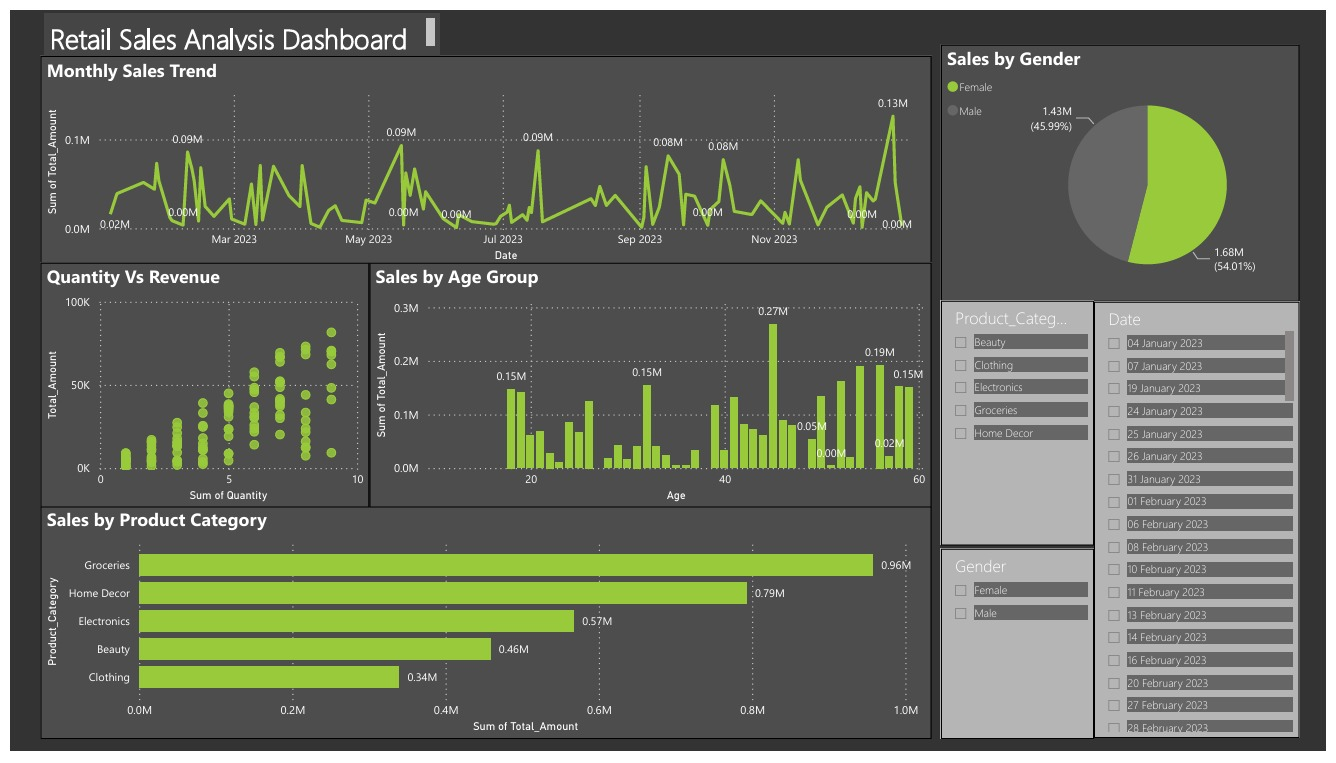

What the dashboard file says about the page in this screenshot:
{"tool":"powerbi","page":{"name":"Retail Sales Dashboard","canvas":[1280,720],"ordinal":0},"visuals":[{"type":"lineChart","title":"Monthly Sales Trend","fields":{"Y":["Sum(Sheet1.Total_Amount)"],"Category":["Sheet1.Date"]},"box":[28.6,43.6,867.9,206.1],"z":0},{"type":"pieChart","title":"Sales by Gender","fields":{"Category":["Sheet1.Gender"],"Y":["Sum(Sheet1.Total_Amount)"]},"box":[905.5,33.1,349,249.7],"z":1000},{"type":"clusteredBarChart","title":"Sales by Product Category","fields":{"Category":["Sheet1.Product_Category"],"Y":["Sum(Sheet1.Total_Amount)"]},"box":[28.6,481.3,867.9,227.1],"z":2000},{"type":"clusteredColumnChart","title":"Sales by Age Group","fields":{"Category":["Sheet1.Age"],"Y":["Sum(Sheet1.Total_Amount)"]},"box":[349,245.2,547.5,237.6],"z":3000},{"type":"scatterChart","title":"Quantity Vs Revenue","fields":{"X":["Sum(Sheet1.Quantity)"],"Y":["Sheet1.Total_Amount"]},"box":[28.6,245.2,320.4,237.6],"z":4000},{"type":"slicer","fields":{"Values":["Sheet1.Product_Category"]},"box":[905.2,281.6,149.3,238.1],"z":5000},{"type":"slicer","fields":{"Values":["Sheet1.Gender"]},"box":[905.5,523.4,148.9,185],"z":6000},{"type":"slicer","fields":{"Values":["Sheet1.Date"]},"box":[1054.4,282.8,200,424.2],"z":7000},{"type":"textbox","box":[33.1,3,385.1,40.6],"z":8000}]}

Visuals, with their boxes in screenshot pixels (x1, y1, x2, y2), scaled from the page's 1280x720 canvas onto the 1336x763 screenshot:
"Monthly Sales Trend" lineChart: (left=30, top=46, right=936, bottom=265)
"Sales by Gender" pieChart: (left=945, top=35, right=1309, bottom=300)
"Sales by Product Category" clusteredBarChart: (left=30, top=510, right=936, bottom=751)
"Sales by Age Group" clusteredColumnChart: (left=364, top=260, right=936, bottom=512)
"Quantity Vs Revenue" scatterChart: (left=30, top=260, right=364, bottom=512)
slicer - Sheet1.Product_Category: (left=945, top=298, right=1101, bottom=551)
slicer - Sheet1.Gender: (left=945, top=555, right=1101, bottom=751)
slicer - Sheet1.Date: (left=1101, top=300, right=1309, bottom=749)
textbox: (left=35, top=3, right=436, bottom=46)
